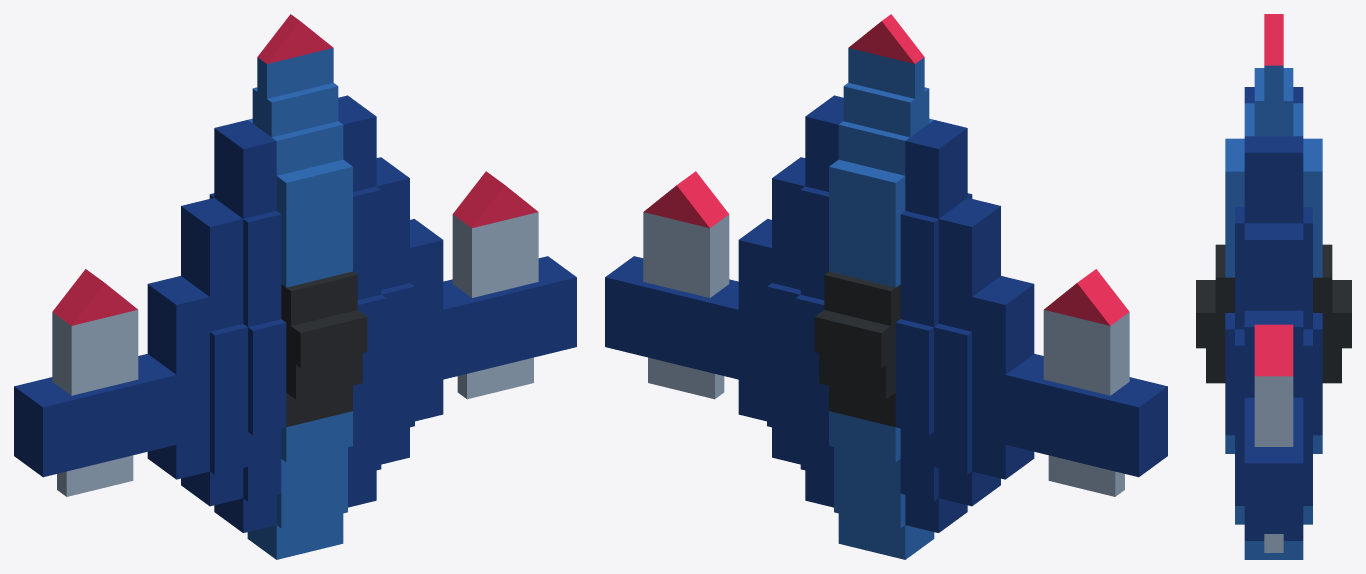
The model's file is Chunky Ship.obj.
3 renders of one model, left to right at view 1: azimuth 30°, elevation 25°; view 2: azimuth 150°, elevation 25°; view 3: azimuth 270°, elevation 25°, orthographic.
Size of the model in its own units: 16 by 15 by 4.
Materials: 1 (1 with a texture image).
